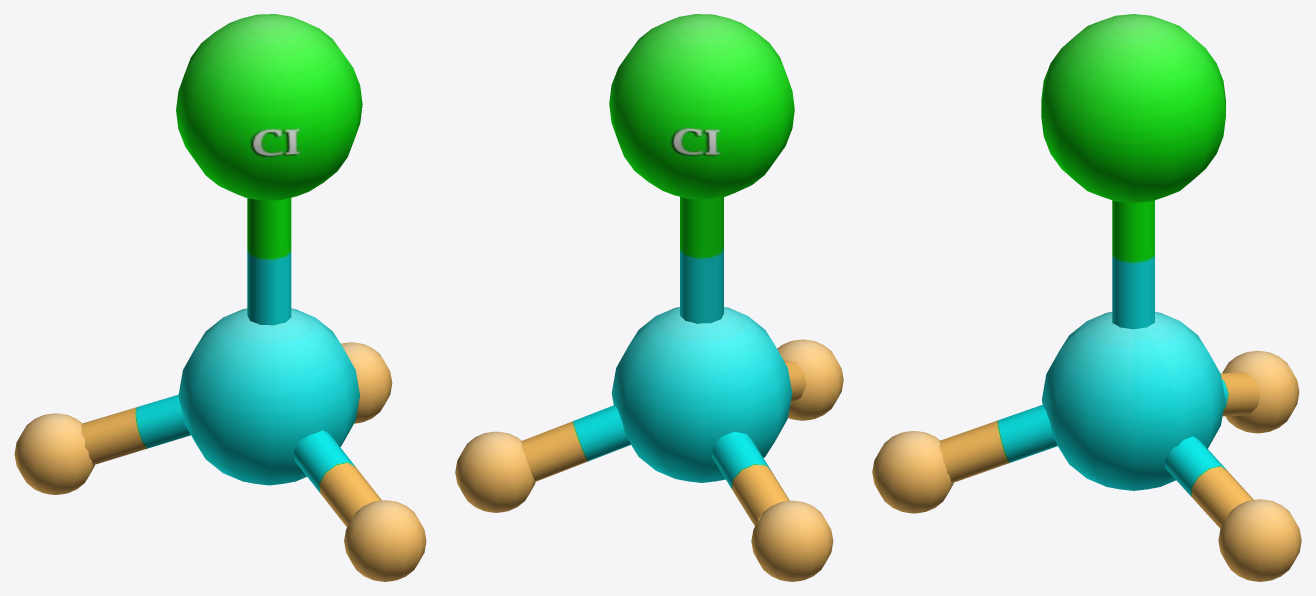
File: ChloroMethane.dae
3 views of the same model, side by side, from view 1: azimuth 30°, elevation 25°; view 2: azimuth 150°, elevation 25°; view 3: azimuth 270°, elevation 25° (orthographic).
Visible parts, largest first — view 1: polySurface21; view 2: polySurface21; view 3: polySurface21.
Boxes of the visible parts, x1=… form: polySurface21: x1=14, y1=14, x2=426, y2=581; polySurface21: x1=455, y1=14, x2=843, y2=581; polySurface21: x1=872, y1=14, x2=1301, y2=581.
Bounding box in the file's own units: 2.31 × 2.87 × 2.31.
Materials: 1 (1 with a texture image).
